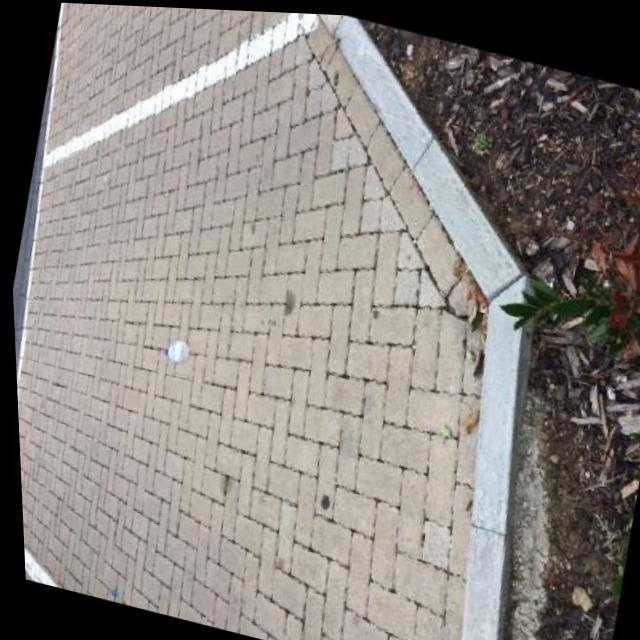plastic: (162, 334, 191, 364)
